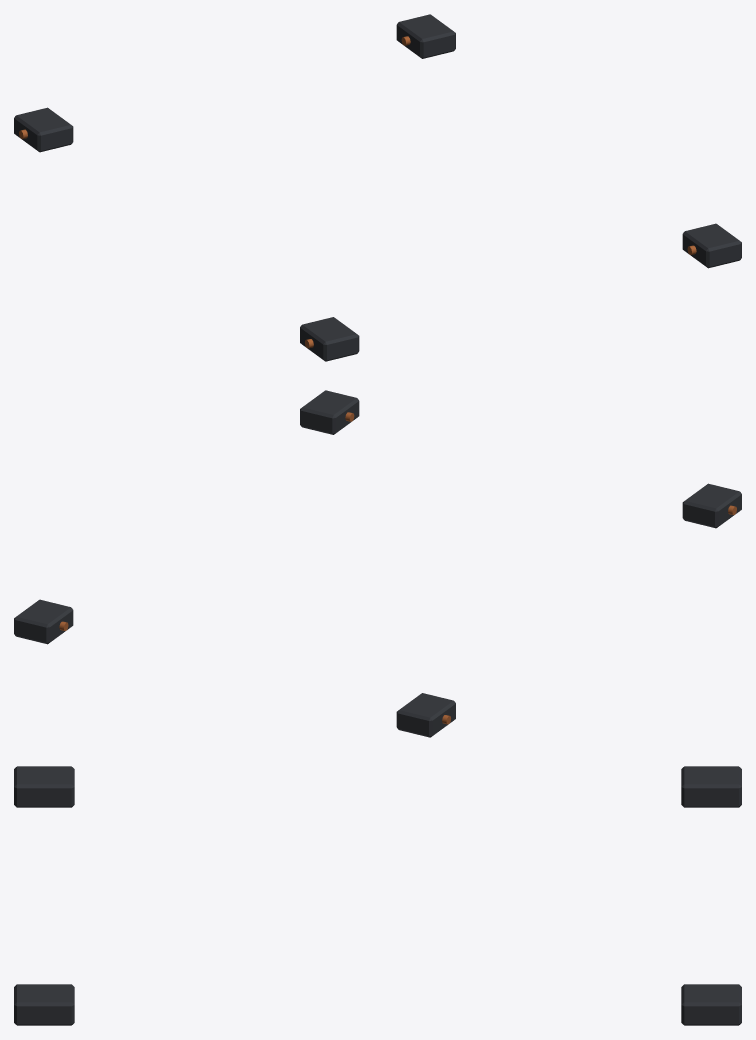
File: rp10_latches.obj
The picture shows the model from 3 angles, top to bottom: view 1: azimuth 30°, elevation 25°; view 2: azimuth 150°, elevation 25°; view 3: azimuth 270°, elevation 25°; orthographic projection. The views are drawn at different scales.
Visible parts, largest first — view 1: rp10_latches; view 2: rp10_latches; view 3: rp10_latches.
Boxes of the visible parts, x1,y1,x2,y2 form: rp10_latches: [14, 14, 741, 361]; rp10_latches: [14, 390, 741, 737]; rp10_latches: [14, 766, 741, 1025].
Size of the model in its own units: 1.88 by 0.085 by 2.4.
